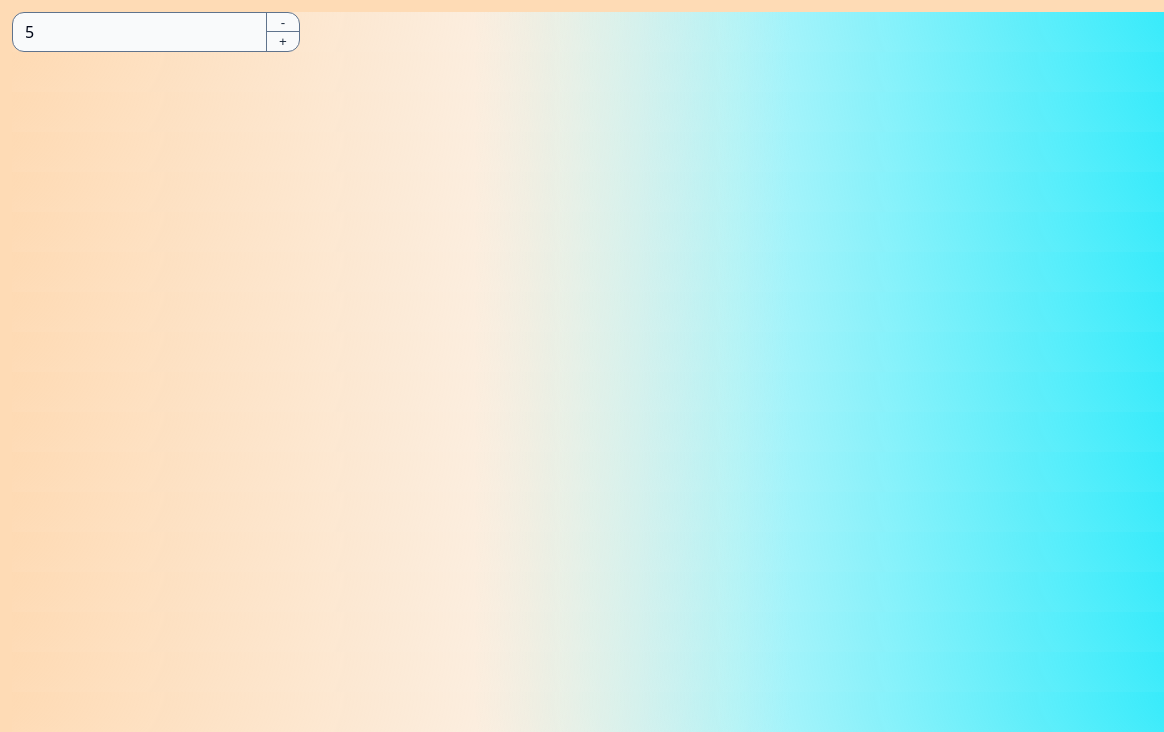
Test: NumberField › неуправляемый режим › ввод зажимается в границы min и max
This screenshot has width=1164, height=732.
Replace the text in the number field named "Qty" with "150" at (140, 32), box [13,13,266,51]
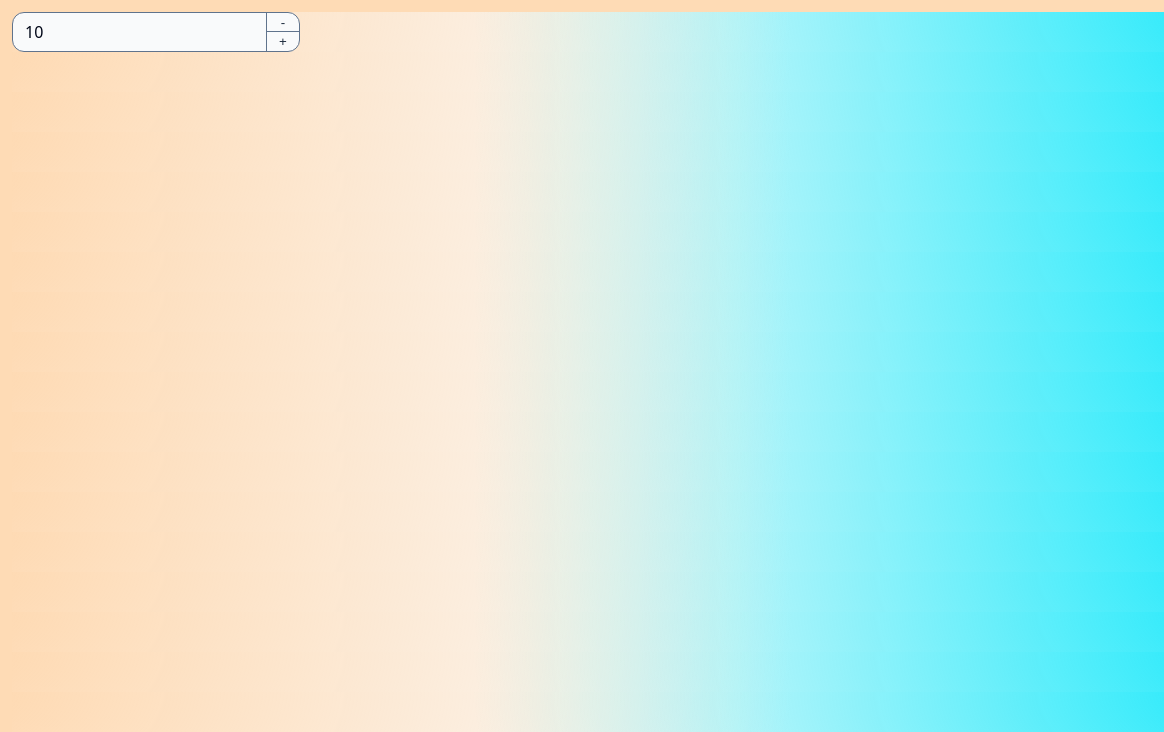
Expected: the number field named "Qty" holds "10"
Replace the text in the number field named "Qty" with "-4" at (140, 32), box [13,13,266,51]
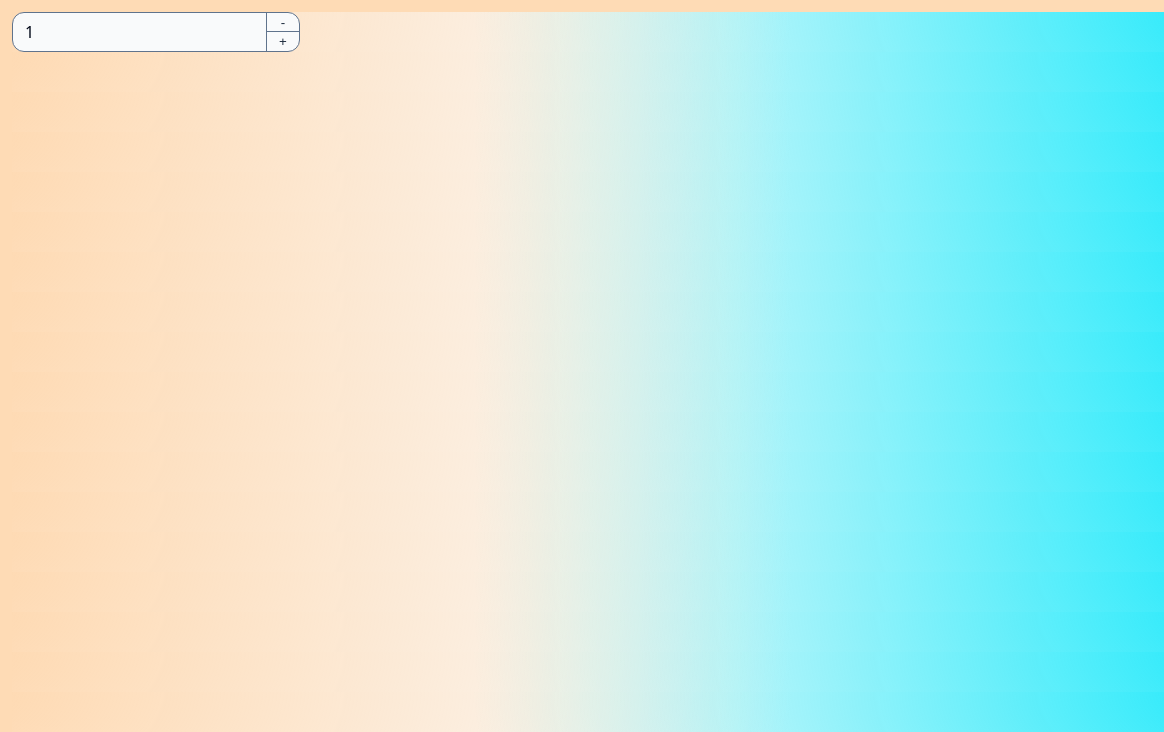
Expected: the number field named "Qty" holds "1", [13,13,266,51]
